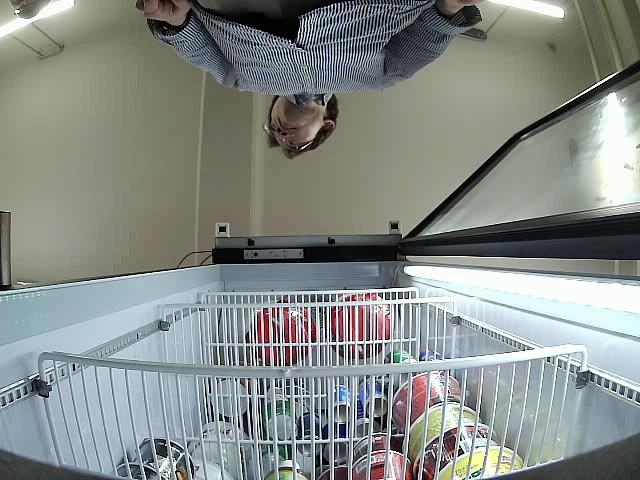00_hand: (134, 0, 190, 28)
